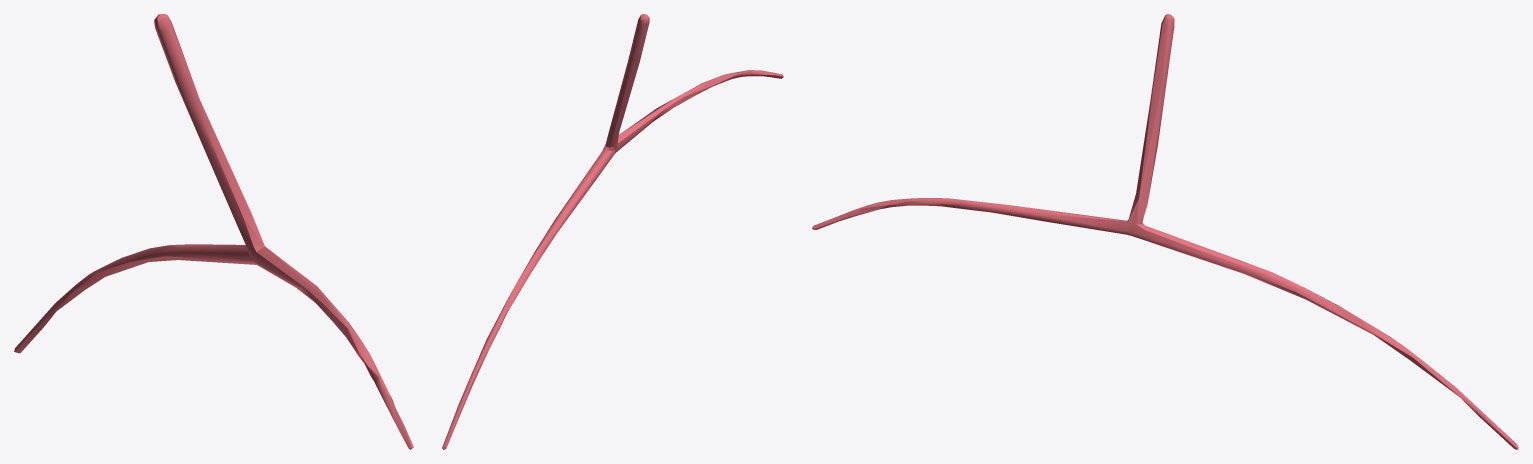
Rendered from fma76079_fj5068.glb.
3 renders of one model, left to right at view 1: azimuth 30°, elevation 25°; view 2: azimuth 150°, elevation 25°; view 3: azimuth 270°, elevation 25°, orthographic. The views are drawn at different scales.
Visible parts, largest first — view 1: FMA76079_FJ5068; view 2: FMA76079_FJ5068; view 3: FMA76079_FJ5068.
Part boxes in pixels (x1,y1,x2,y2): FMA76079_FJ5068: [14, 14, 413, 449]; FMA76079_FJ5068: [442, 14, 783, 449]; FMA76079_FJ5068: [812, 14, 1518, 449].
Size of the model in its own units: 0.0028 by 0.0153 by 0.0243.
